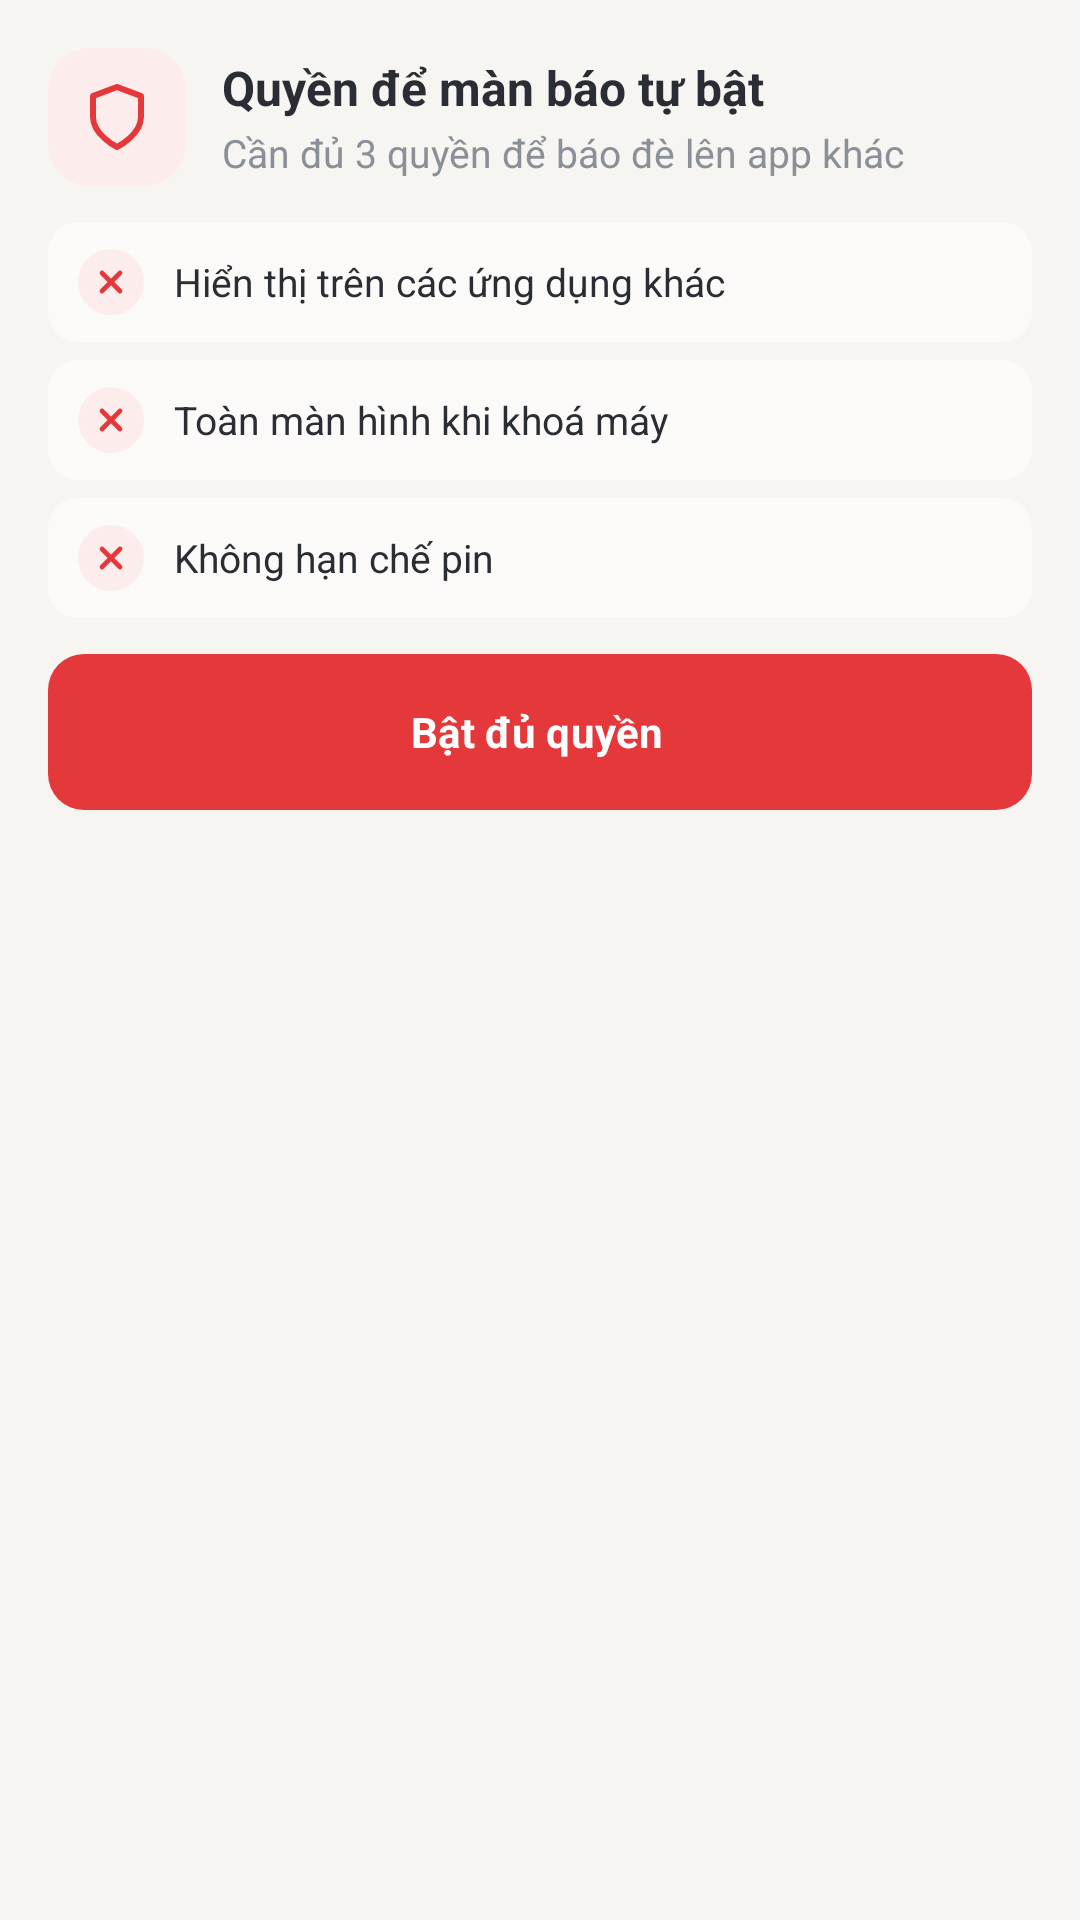

Where icons sit on this 1080px×1920px app screen, as (x1,y1,x2,y2):
cross: (99,270,123,294), (99,408,123,432), (99,546,123,570)
shield: (48,48,186,186)
